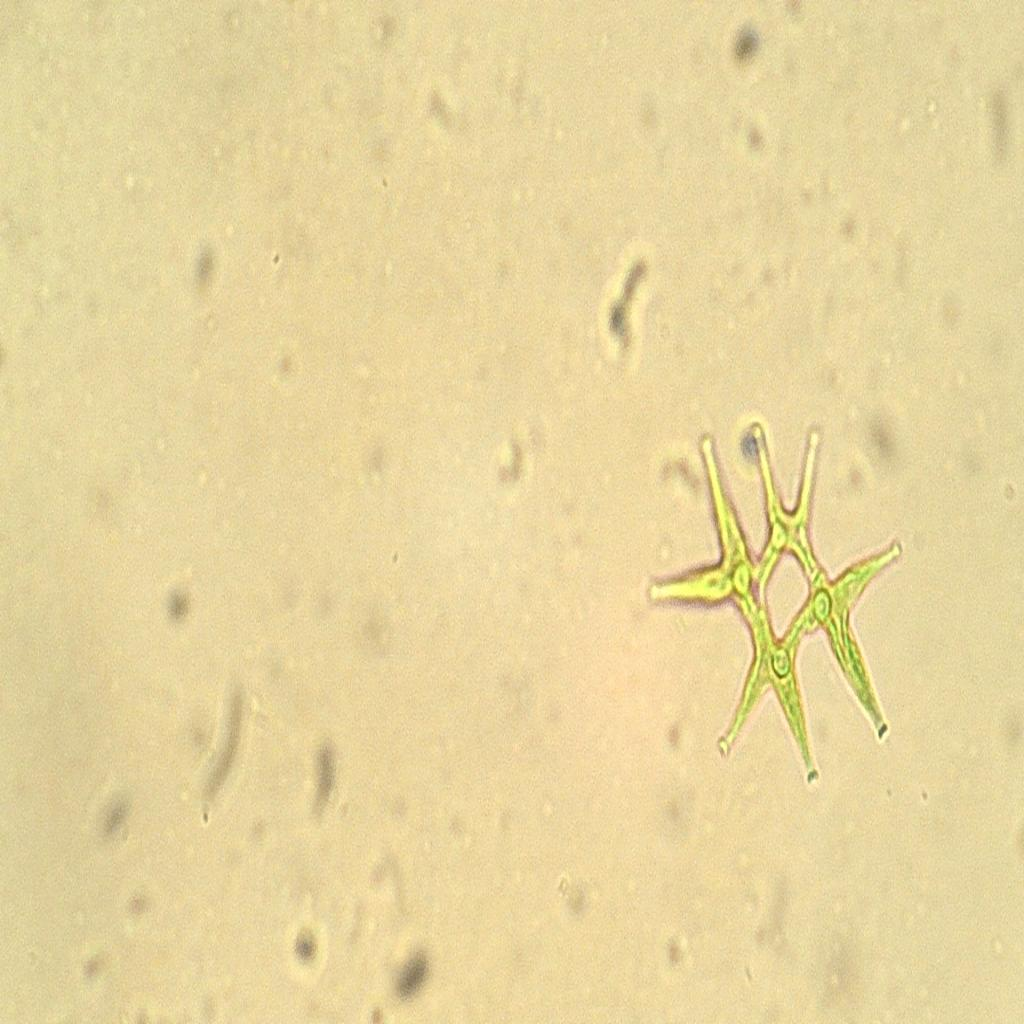Pediastrum_CF: (630, 406, 924, 796)
